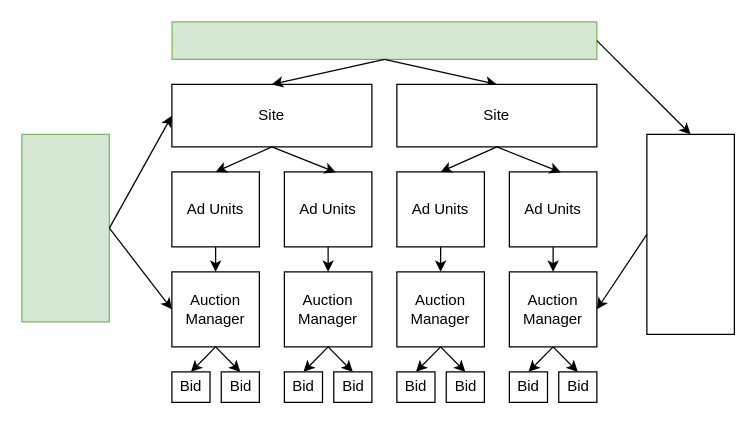
Image size: 756x425. Some labels were removed from this diagram. Here are the shapes that lost their labels. From the top down, the box of each, then its label:
(171, 21, 597, 59): Config.json
(21, 133, 109, 322): Input.json
(646, 133, 734, 334): Bidder Settings
